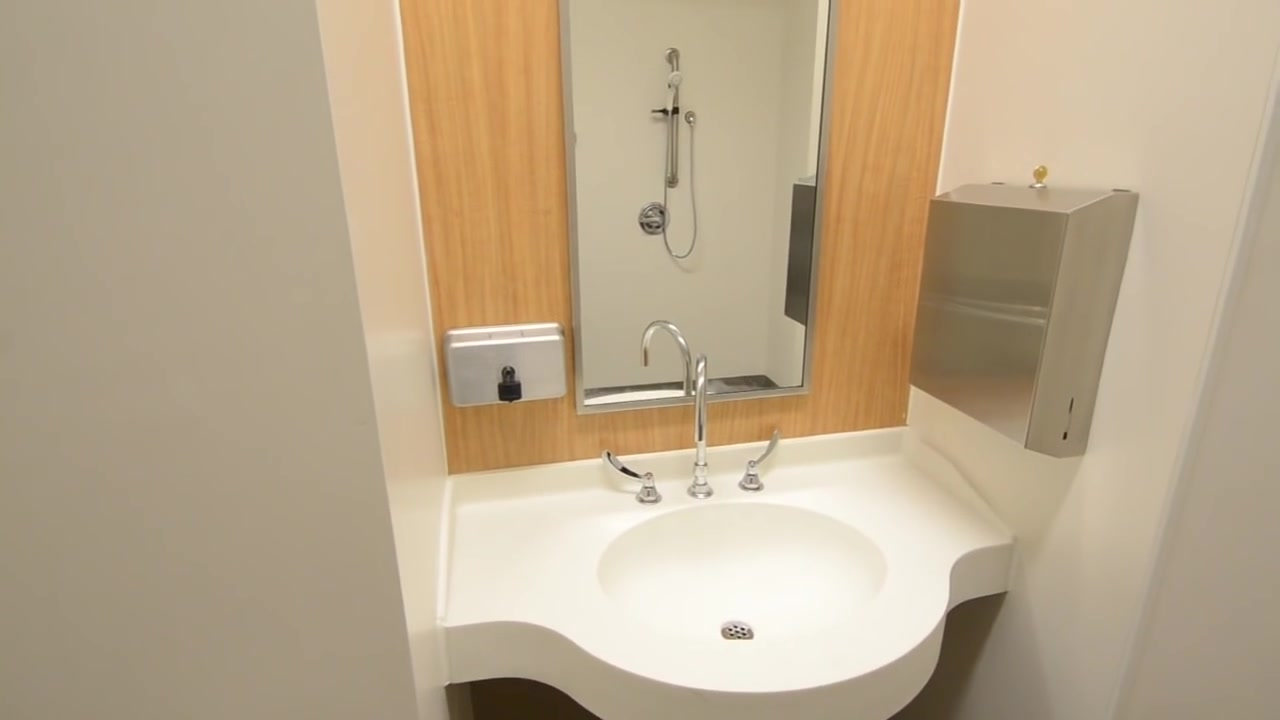dispenser: (908, 184, 1140, 459)
faucet: (602, 353, 778, 500)
sink: (602, 498, 883, 656)
